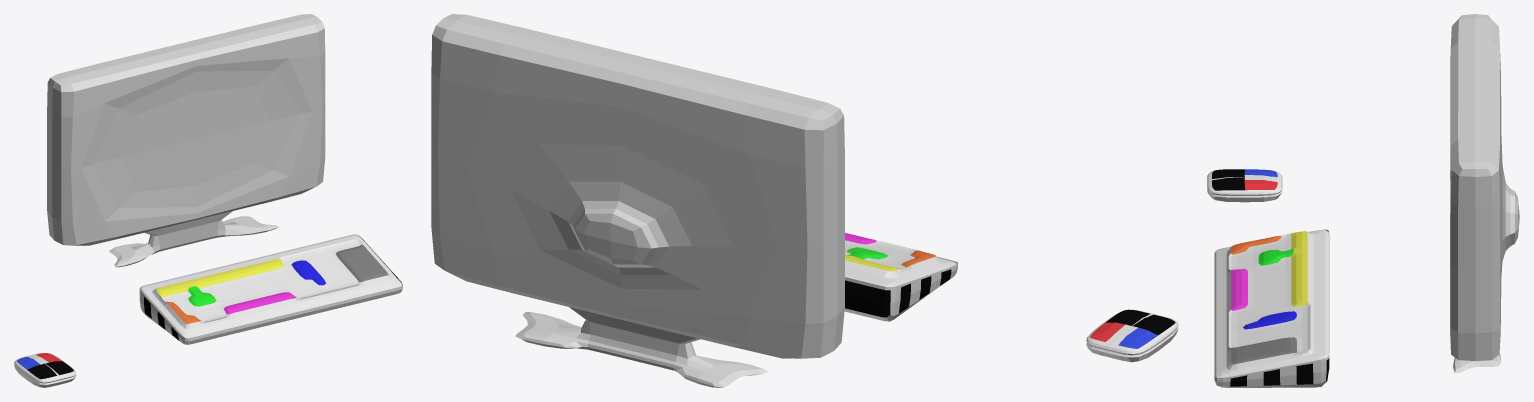
The model's file is TV_Computer_Mouse_Keyboard.fbx.
3 views of the same model, side by side, from view 1: azimuth 30°, elevation 25°; view 2: azimuth 150°, elevation 25°; view 3: azimuth 270°, elevation 25° (orthographic). The views are drawn at different scales.
Visible parts, largest first — view 1: Cube.001, Cube.002, Cylinder.002, Cylinder.001; view 2: Cube.001, Cube.002, Cylinder.002, Cylinder.001; view 3: Cube.001, Cube.002, Cylinder.002, Cylinder.001.
Part boxes in pixels (<box>): Cube.001: <box>47,14,325,267</box>; Cube.002: <box>139,234,402,344</box>; Cylinder.002: <box>14,355,76,387</box>; Cylinder.001: <box>14,353,76,383</box>; Cube.001: <box>431,14,844,387</box>; Cube.002: <box>844,233,957,321</box>; Cylinder.002: <box>1086,312,1178,362</box>; Cylinder.001: <box>1086,309,1178,355</box>; Cube.001: <box>1450,14,1519,373</box>; Cube.002: <box>1214,229,1329,387</box>; Cylinder.002: <box>1207,170,1282,202</box>; Cylinder.001: <box>1207,169,1282,195</box>.
Bounding box in the file's own units: 177 × 87.02 × 101.
